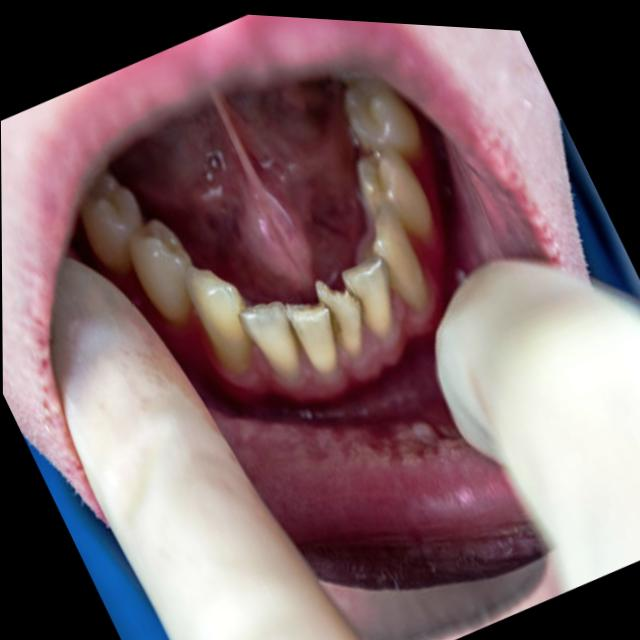gingivitis: (215, 290, 448, 404)
